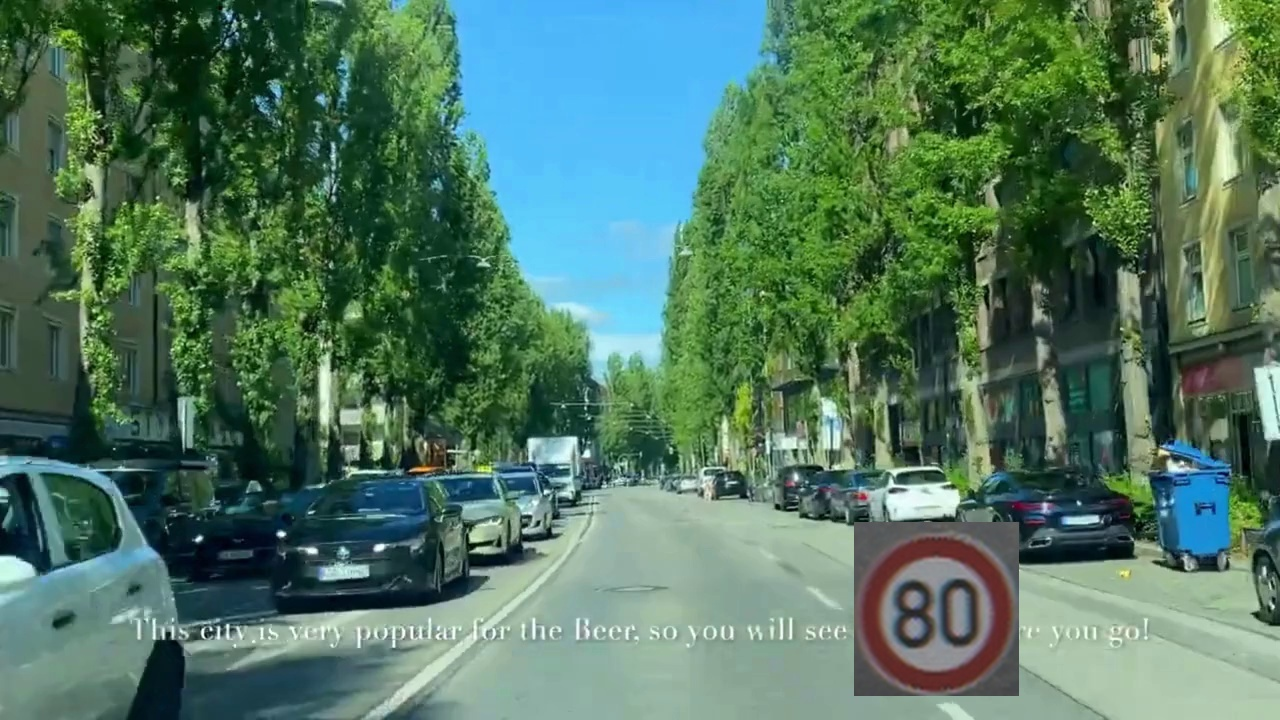Speed 80: (854, 522, 1019, 696)
